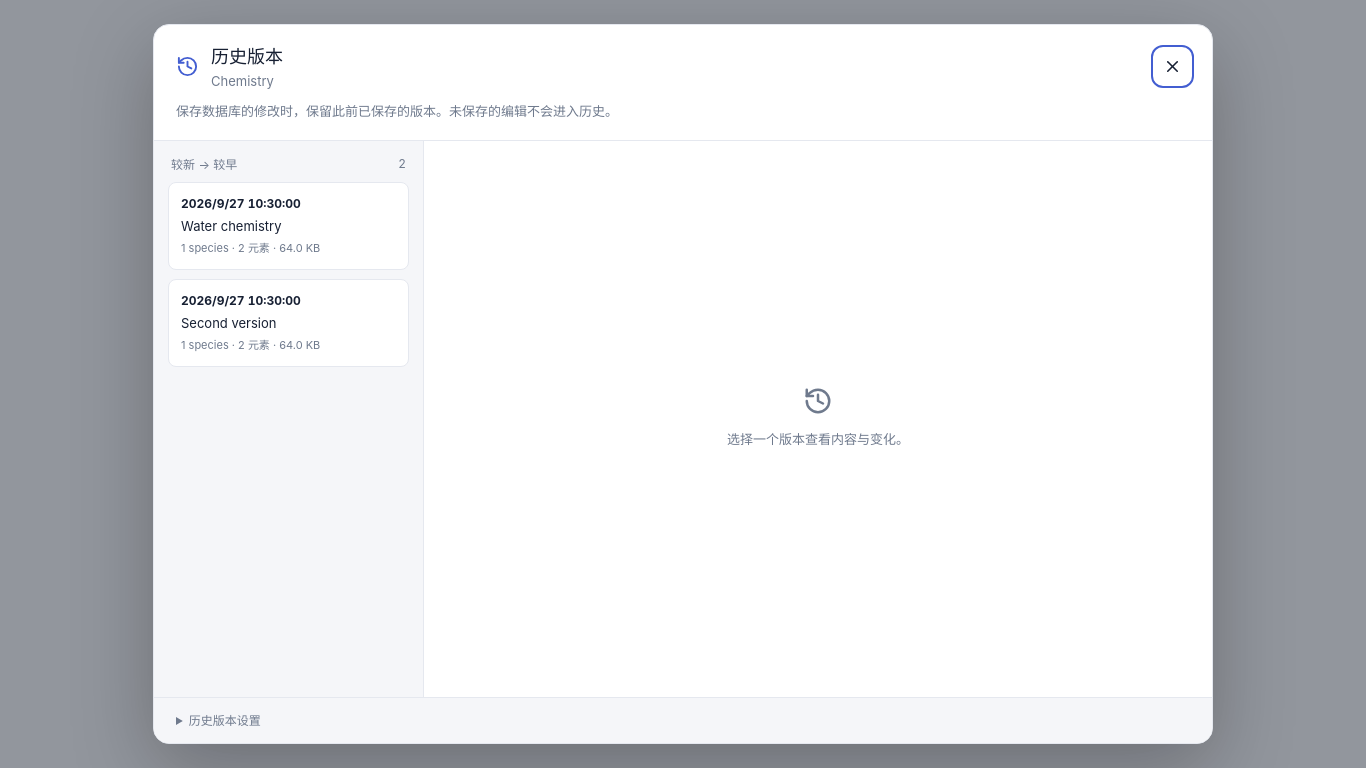
Test: ignores late preview responses after selecting another version
The width and height of the screenshot is (1366, 768).
Click the button "Water chemistry" at coordinates (288, 226), box [168,182,409,270]
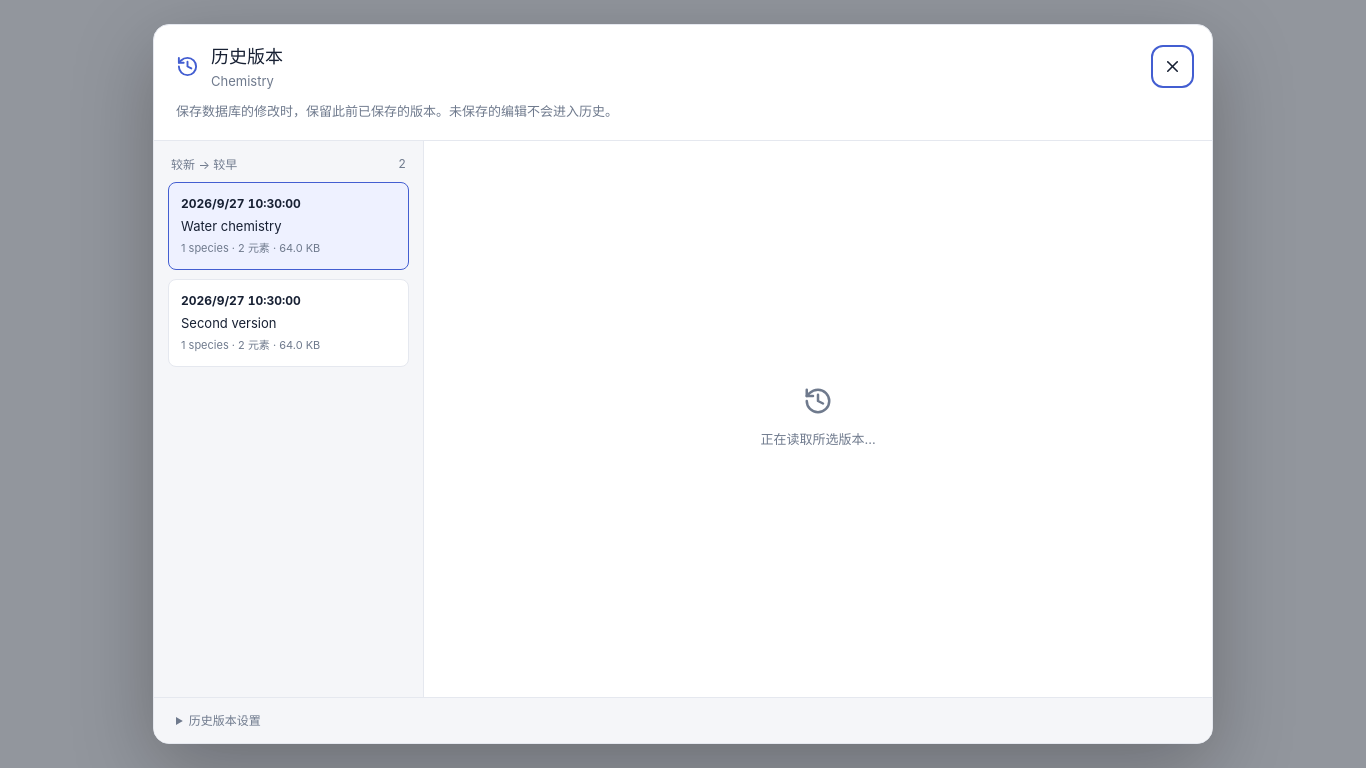
Click the button "2026/9/27 10:30:00 Second version 1 species · 2 元素 · 64.0 KB" at coordinates (288, 323), box [168,279,409,367]
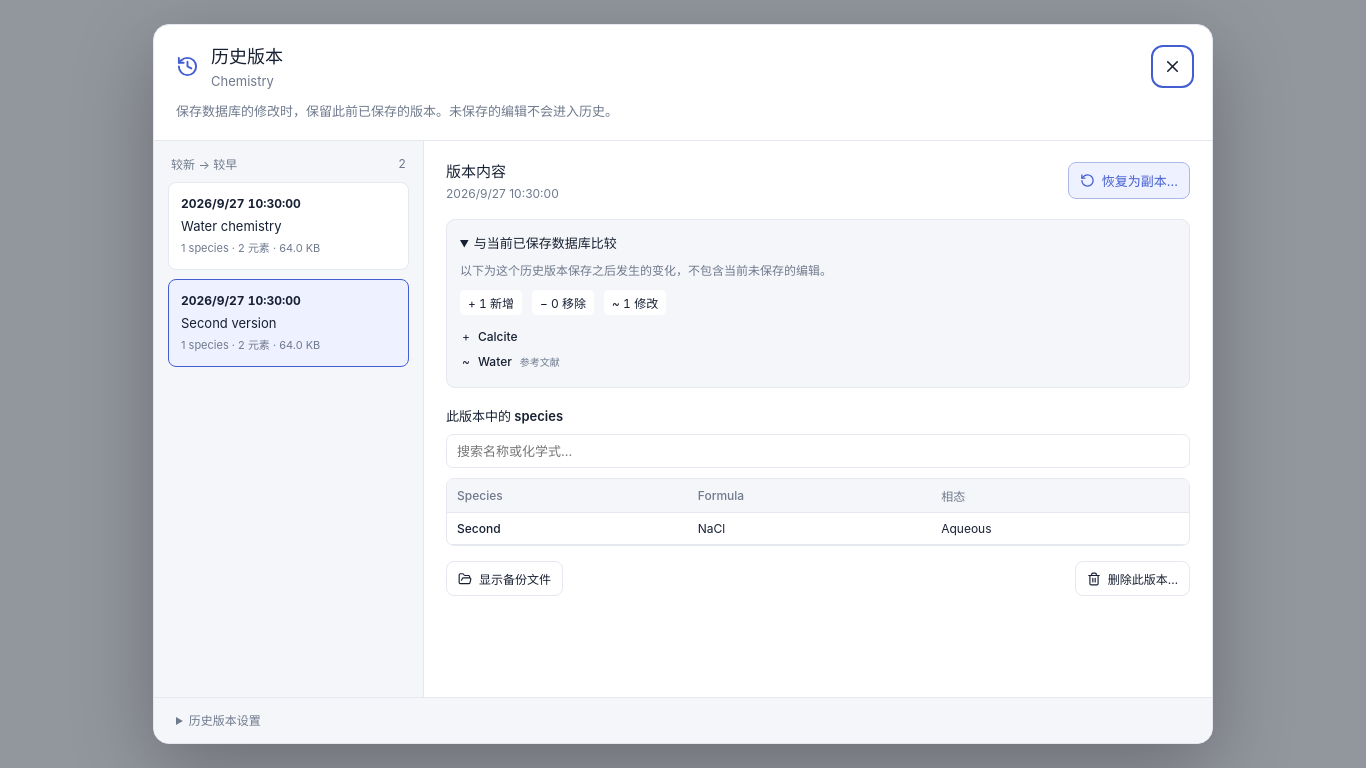
expect the text "Second" is shown: met, box [447,513,688,545]
